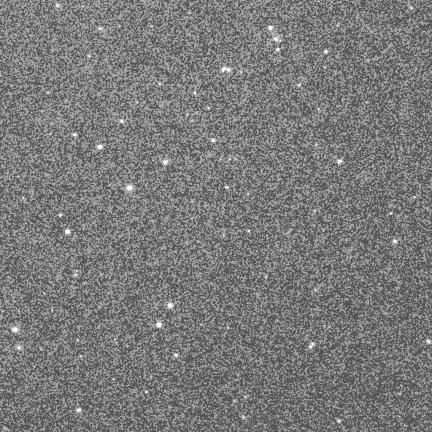blob: (168, 303, 174, 309), (12, 327, 18, 332), (268, 26, 273, 32), (163, 160, 168, 165), (426, 339, 431, 344), (127, 186, 132, 191), (76, 408, 81, 413), (157, 322, 161, 328), (211, 139, 216, 143), (65, 230, 70, 234), (225, 186, 230, 190), (393, 239, 397, 243), (145, 391, 149, 395), (120, 119, 124, 123), (337, 419, 341, 423), (338, 160, 342, 164), (98, 145, 102, 149), (17, 346, 21, 350), (99, 27, 103, 31), (276, 48, 280, 51), (73, 133, 77, 136), (324, 50, 328, 53), (274, 38, 278, 41), (390, 212, 393, 216), (309, 345, 313, 348), (174, 354, 178, 357), (242, 416, 246, 419), (88, 55, 91, 58), (248, 230, 251, 233), (59, 214, 62, 216), (298, 84, 301, 86), (414, 196, 416, 199), (57, 4, 59, 7)
